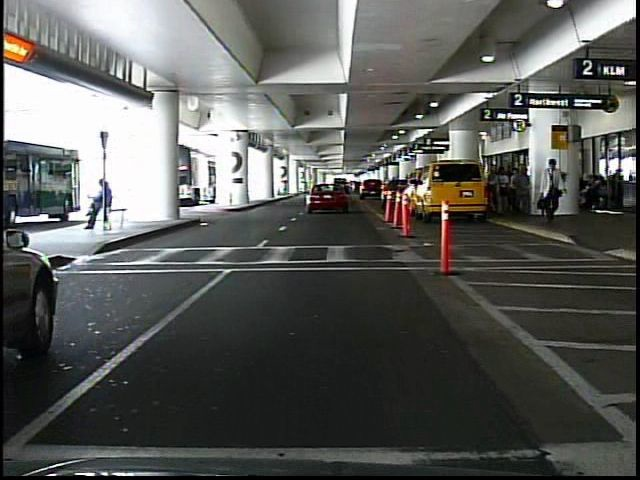person: (536, 157, 567, 224), (514, 163, 533, 219), (497, 165, 513, 216)
